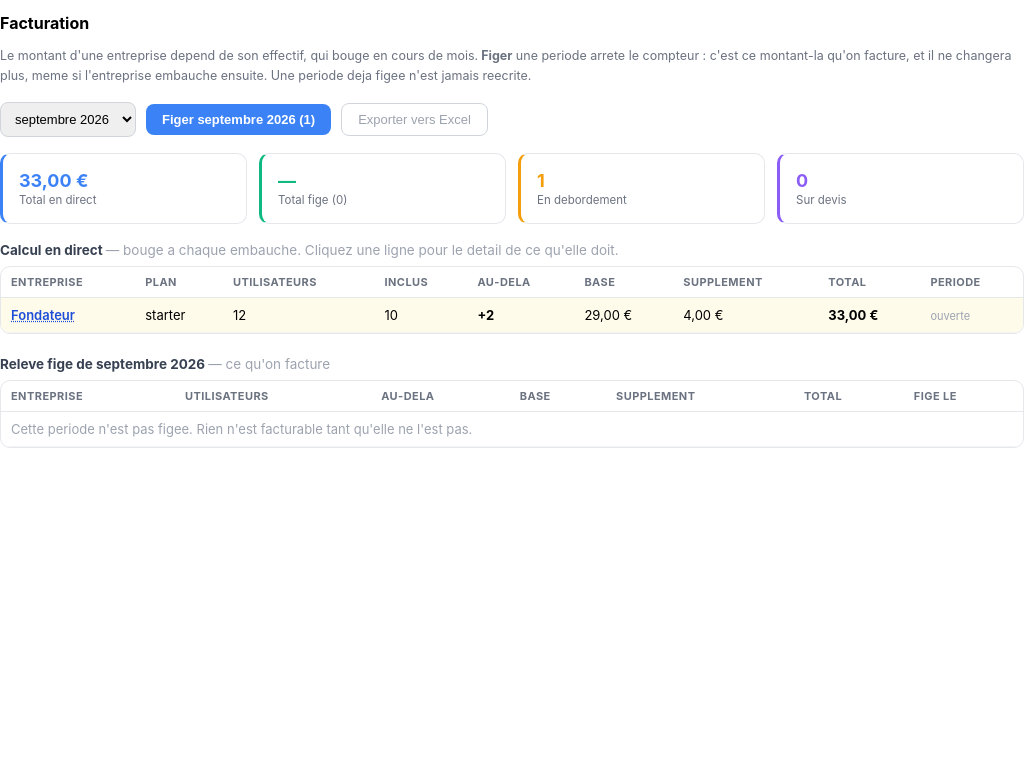
Scenario: le bouton Figer › zero releve cree ne se presente pas comme un echec
Click the button "Figer septembre 2026 (1)" at (239, 119), box [146,104,331,135]
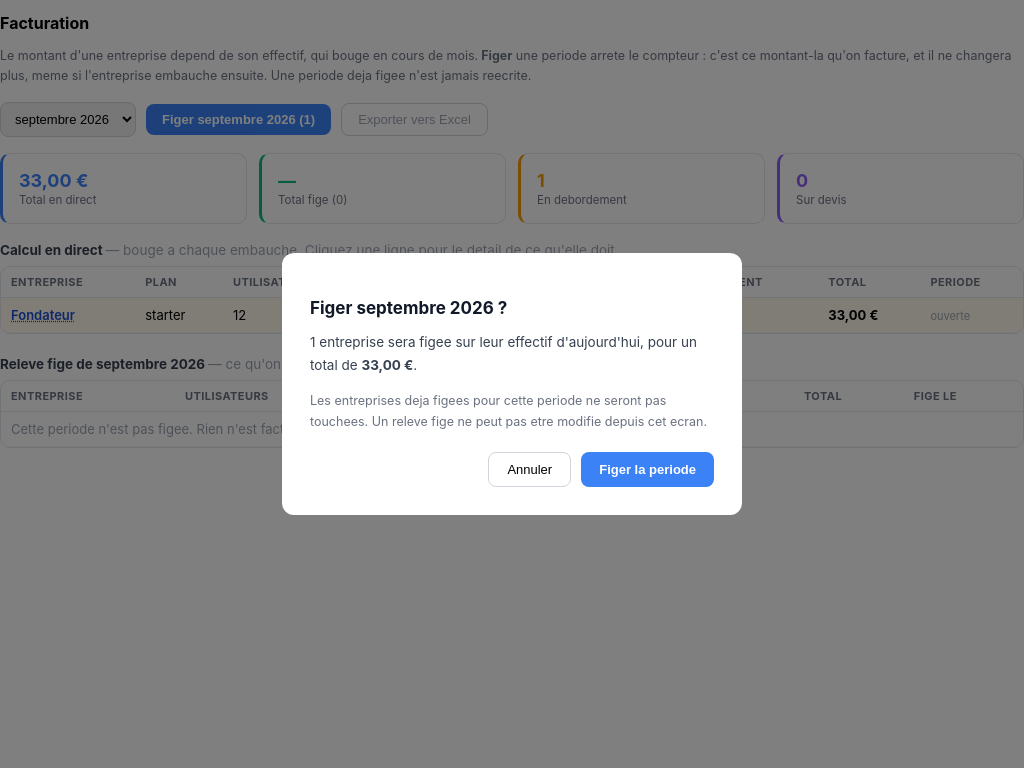
Click the button "Figer la periode" at (648, 470), box [581,452,714,487]
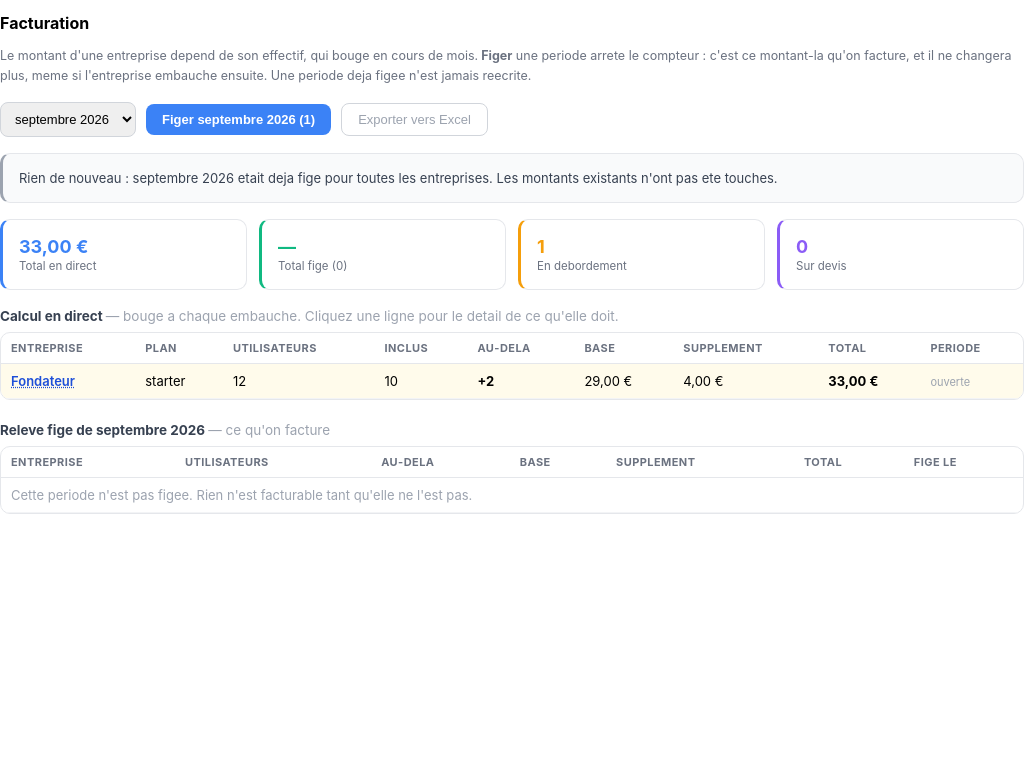
Expected: the text "deja fige" is shown, [0,48,1012,83]
Expected: the text "n'ont pas ete touches" is shown, [19,170,778,186]
